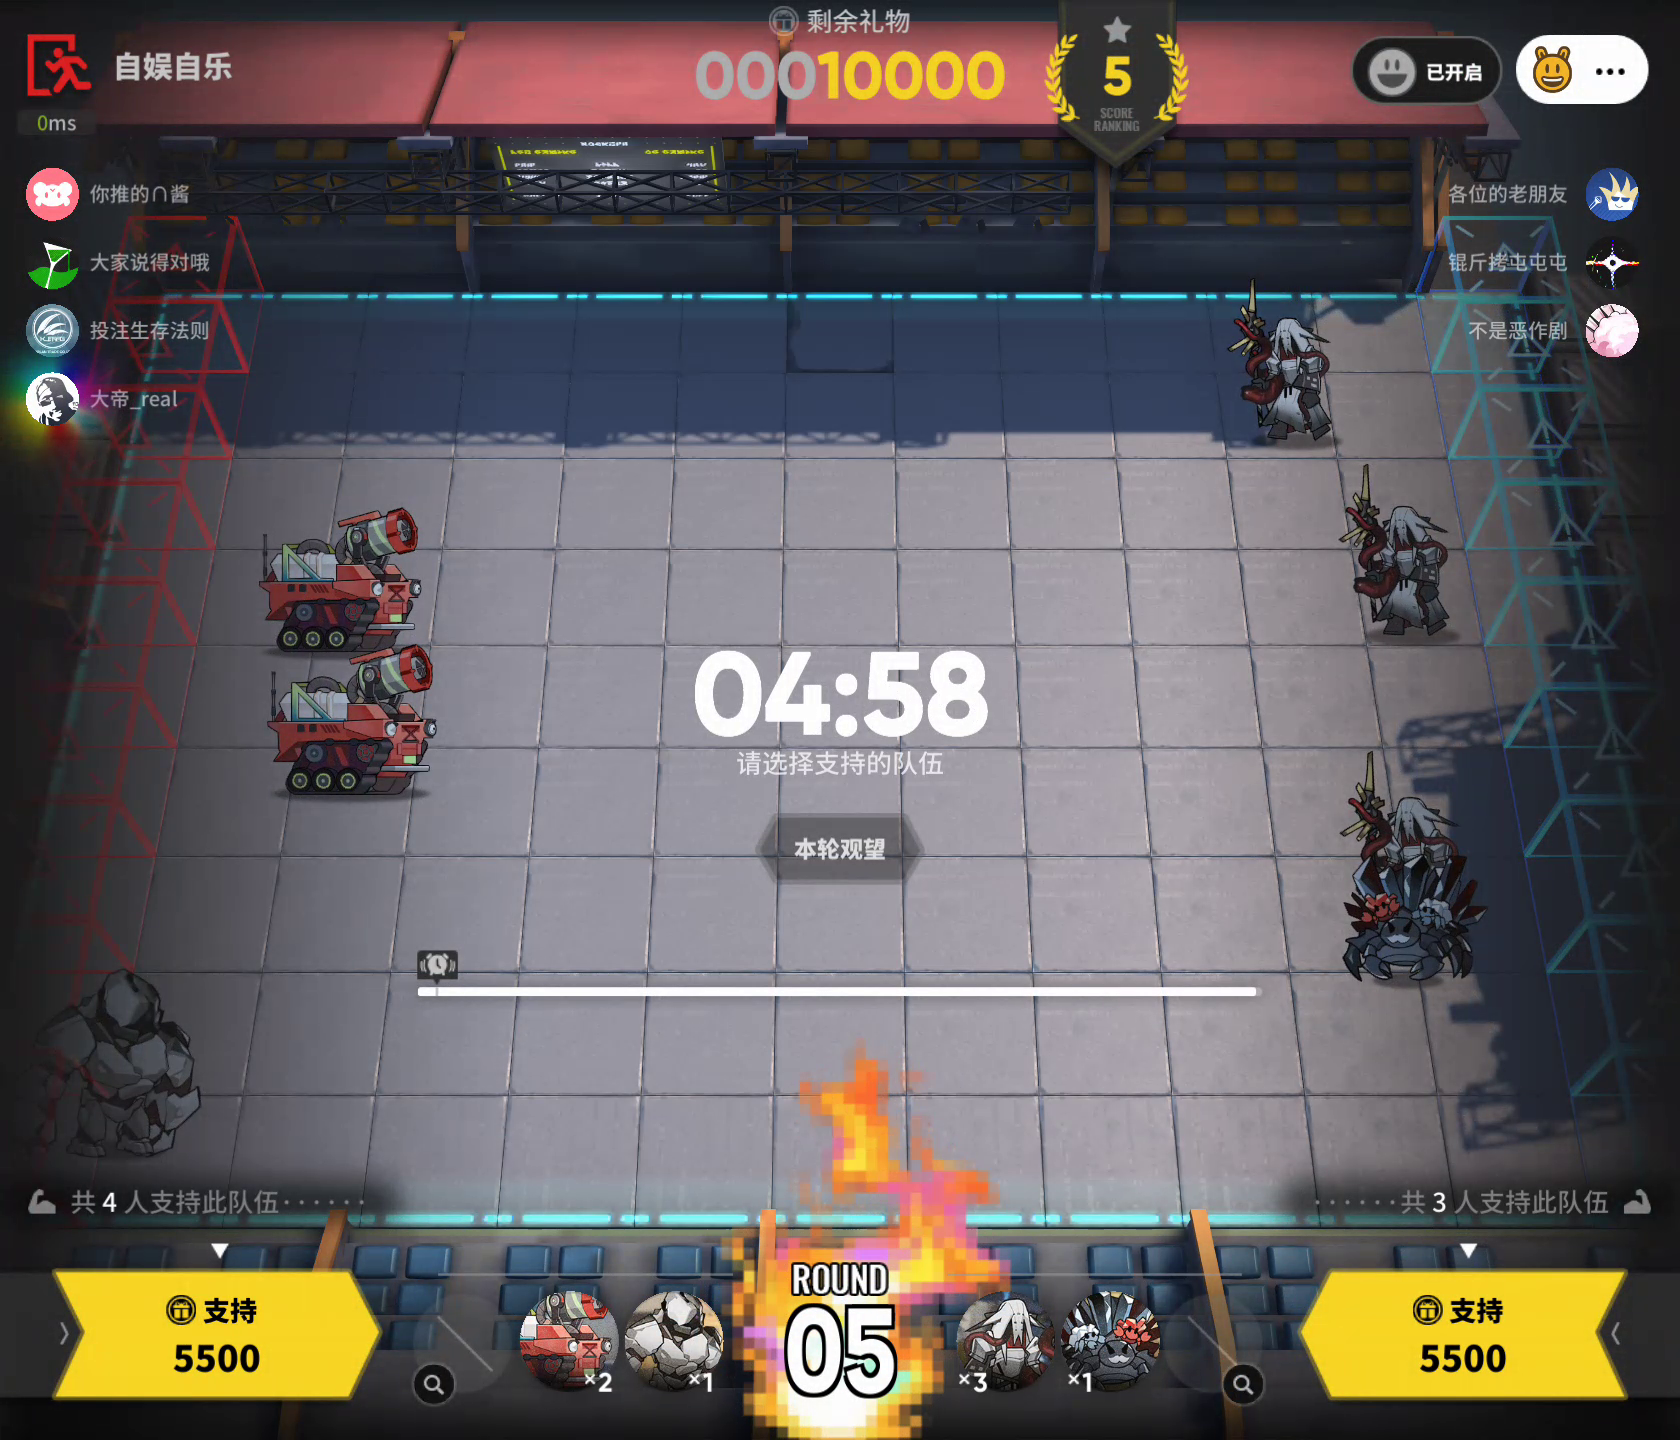砸人的石头: (29, 956, 211, 1163), (626, 1279, 726, 1399)
蟹蟹爷爷: (1339, 843, 1493, 990), (1061, 1283, 1166, 1399)
超级洗地机: (263, 627, 451, 794), (250, 499, 431, 663), (516, 1280, 623, 1396)
重生术师: (1226, 273, 1344, 453), (1344, 467, 1454, 651), (1341, 743, 1454, 879), (944, 1289, 1057, 1399)
